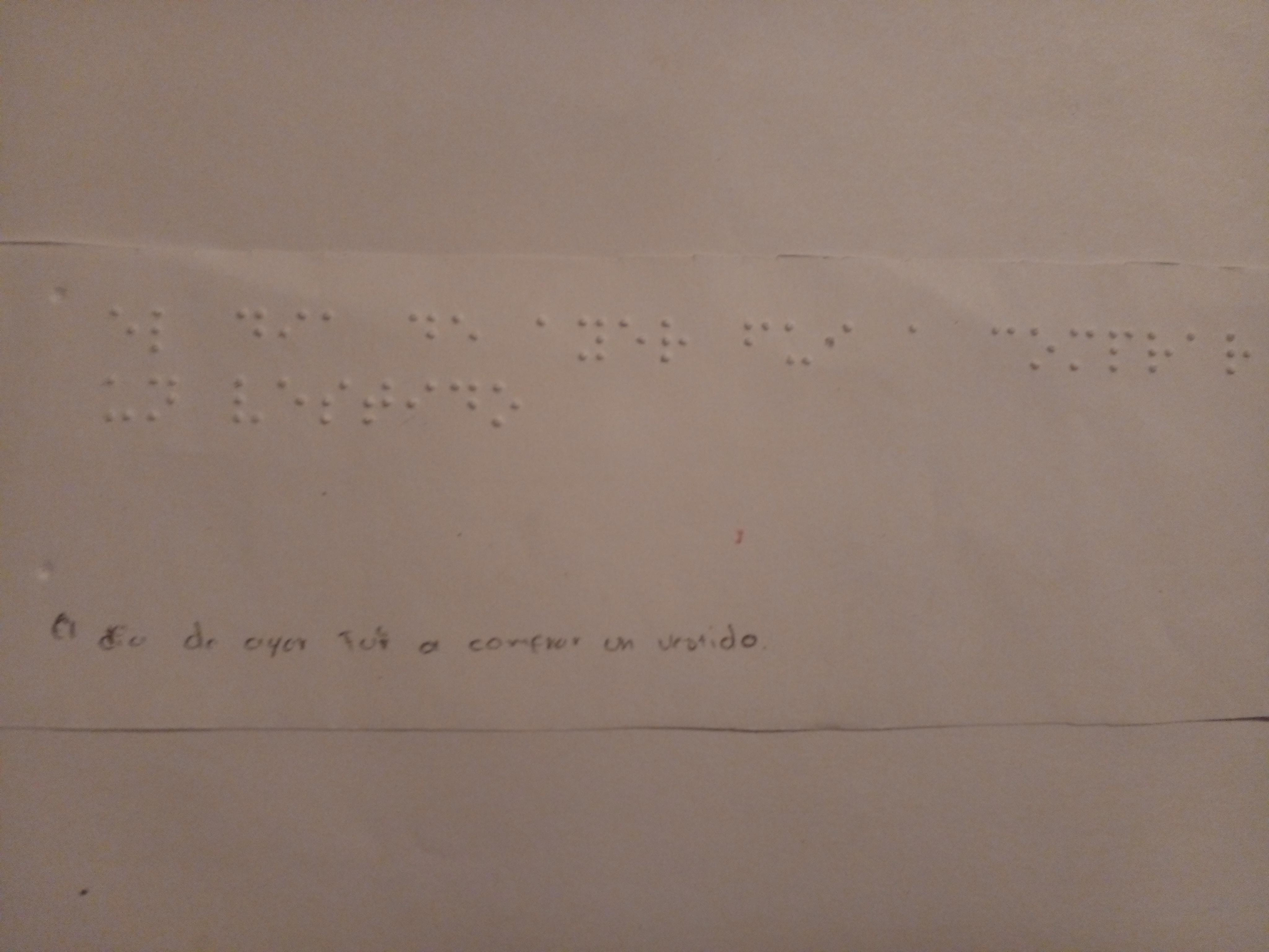a: (1176, 319, 1202, 371), (316, 301, 344, 344), (526, 308, 559, 338), (903, 313, 928, 346)
c: (985, 313, 1019, 350)
d: (233, 300, 273, 348), (444, 374, 485, 419), (407, 307, 444, 347)
e: (104, 293, 143, 353), (273, 369, 311, 425), (615, 308, 651, 354), (445, 309, 485, 349)
f: (736, 311, 774, 354)
i: (822, 309, 859, 370), (405, 369, 436, 432), (274, 303, 310, 344)
l: (144, 304, 181, 357)
m: (1061, 317, 1097, 374)
n: (140, 369, 187, 429)
o: (1028, 318, 1060, 378), (491, 378, 523, 431)
p: (1103, 322, 1136, 382)
r: (656, 314, 697, 367), (1139, 324, 1176, 382), (1219, 324, 1253, 382)
s: (317, 371, 351, 429)
t: (355, 364, 398, 433)
u: (98, 372, 135, 427), (783, 313, 815, 374)
v: (226, 371, 267, 432)
y: (566, 306, 612, 367)
